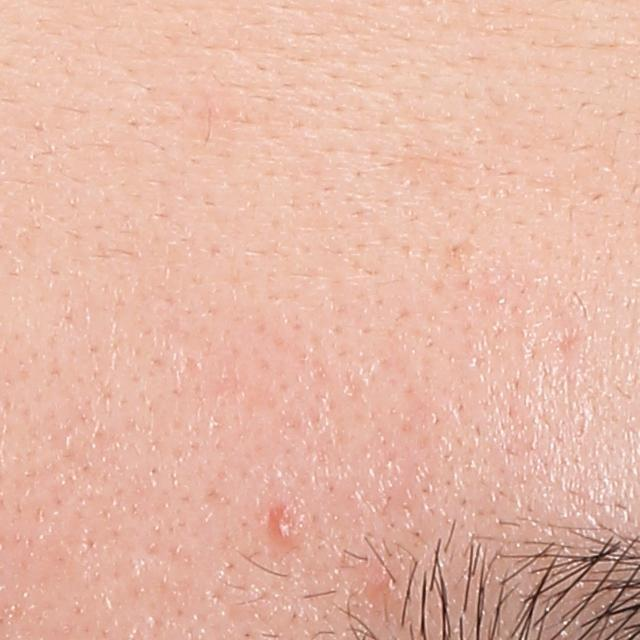papule: (273, 504, 308, 546)
